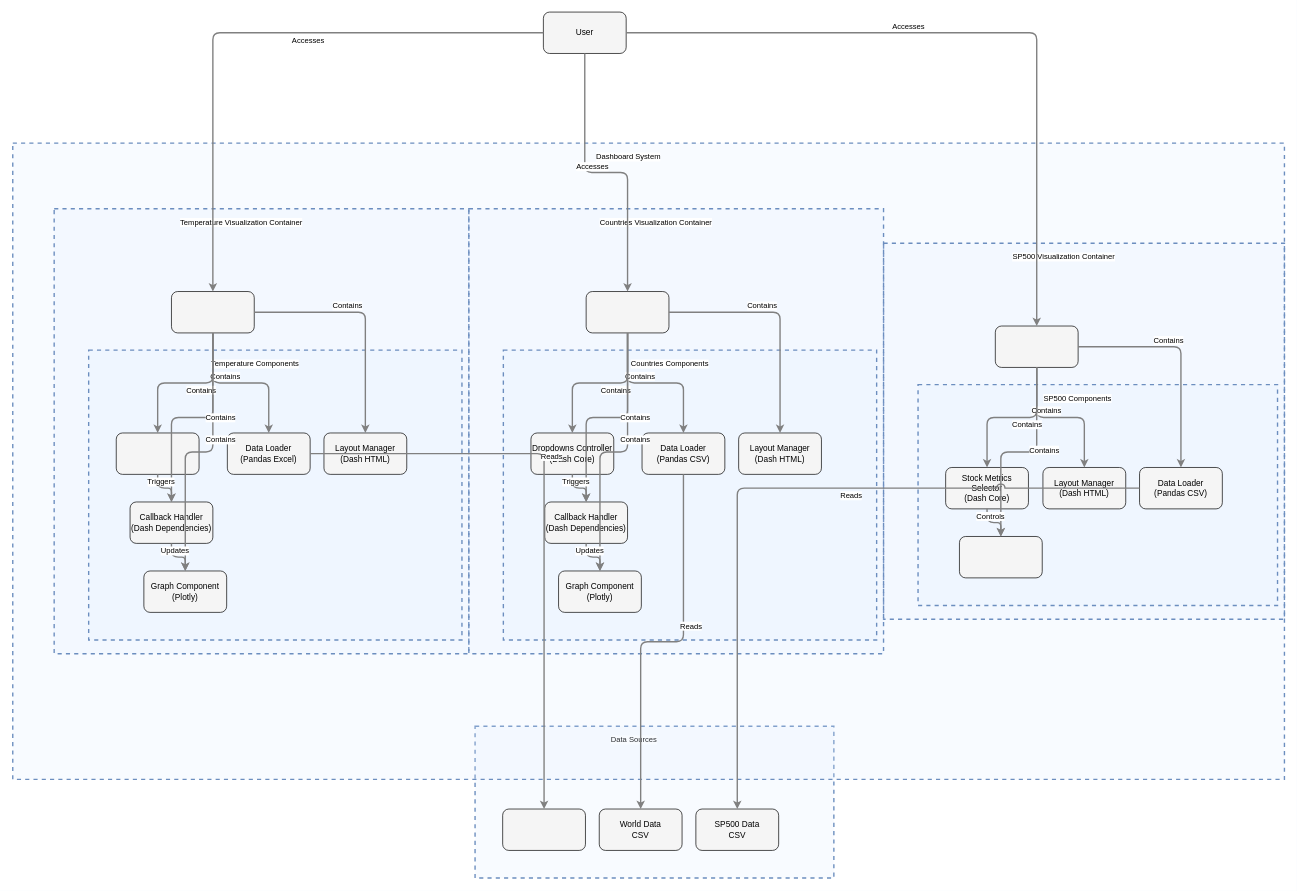
This 1297x891 diagram has some shape labels left out. The shapes that lost their labels are listed below. From the top down, each one's box as (x1, y1, x2, y2) in pixels, then its label:
(171, 291, 254, 333): Temperature Dashboard App (Dash/Python)
(585, 291, 669, 333): Countries Dashboard App (Dash/Python)
(995, 325, 1078, 367): SP500 Dashboard App (Dash/Python)
(116, 432, 199, 474): Date Range Picker (Dash Core)
(959, 536, 1042, 578): Graph Components (Plotly)
(502, 808, 585, 850): Temperature Data Excel
